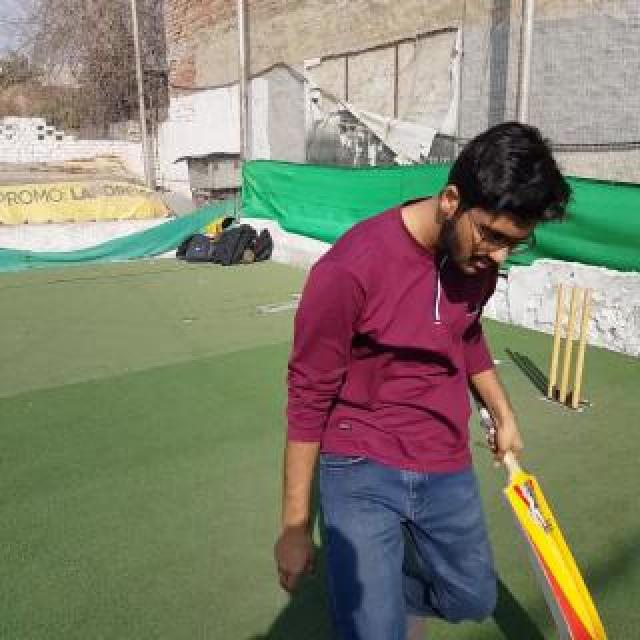bat: (470, 380, 610, 640)
